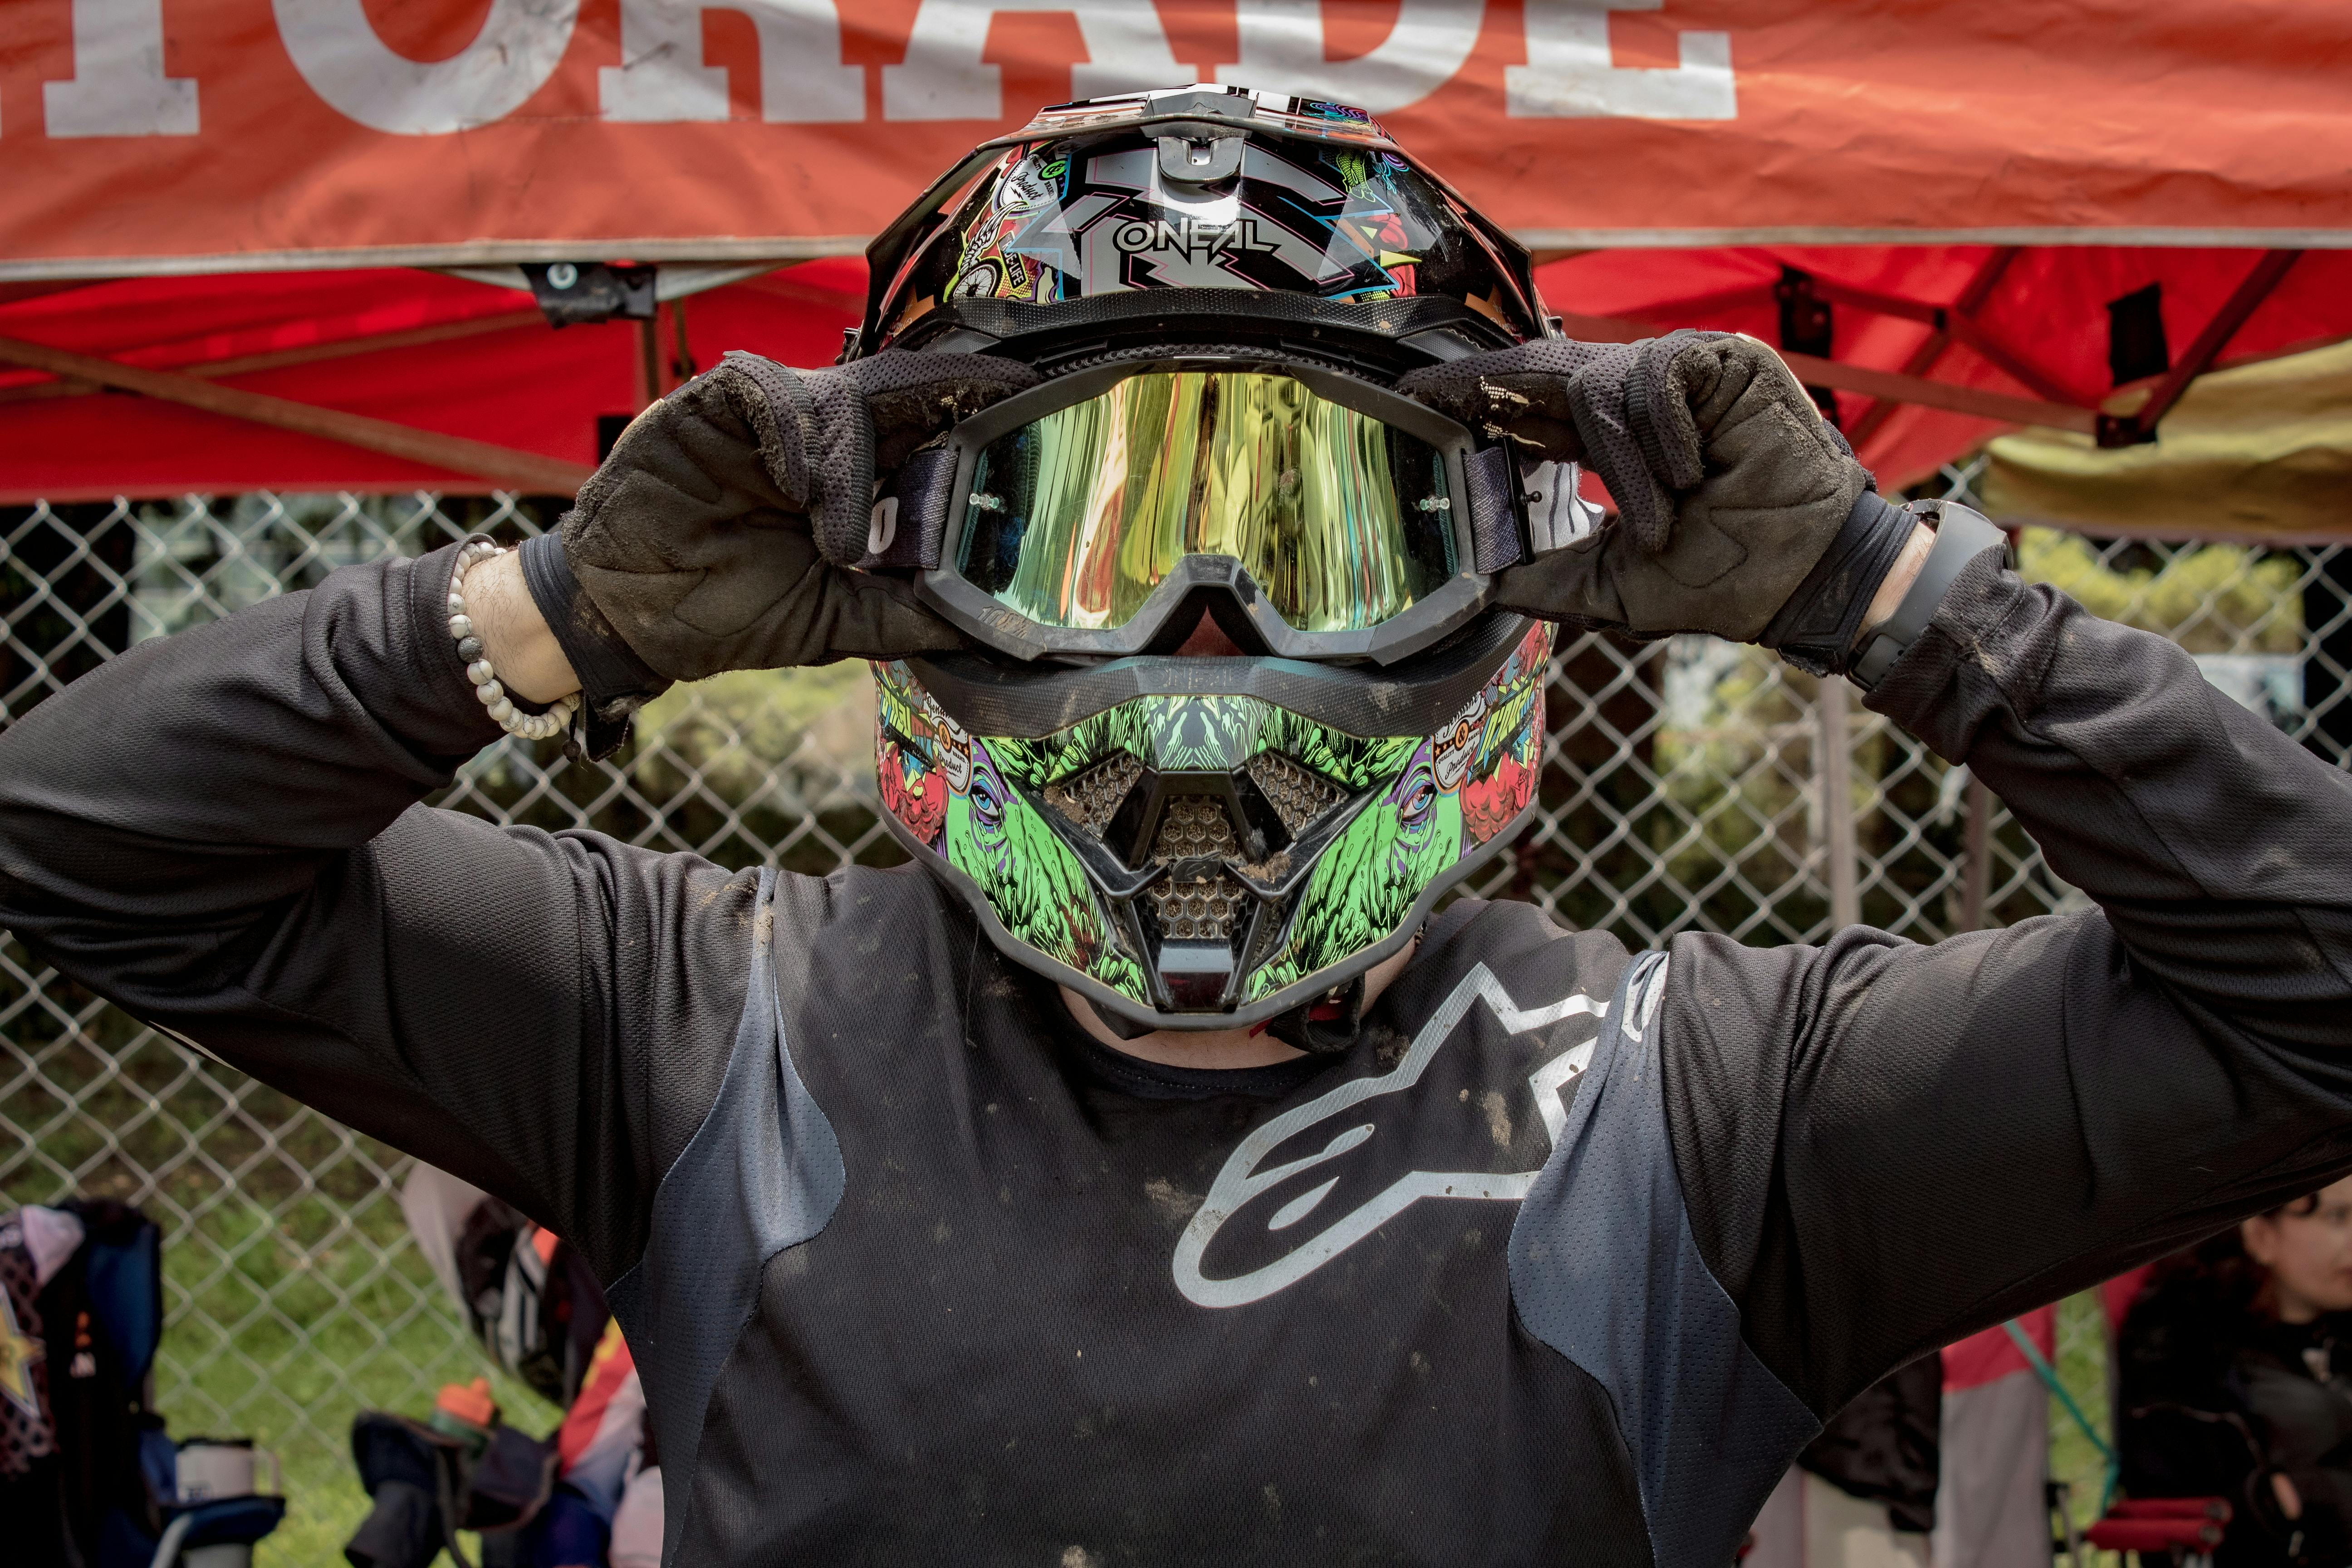capacete: (829, 87, 1580, 1027)
